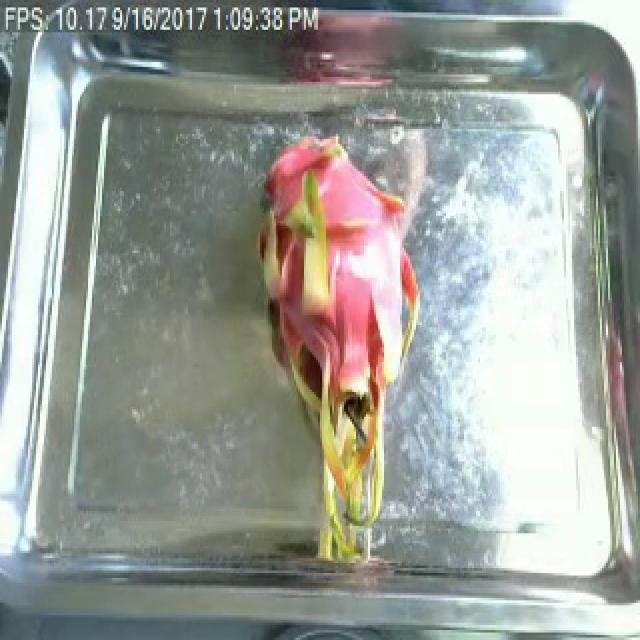fruit: (246, 136, 428, 573)
